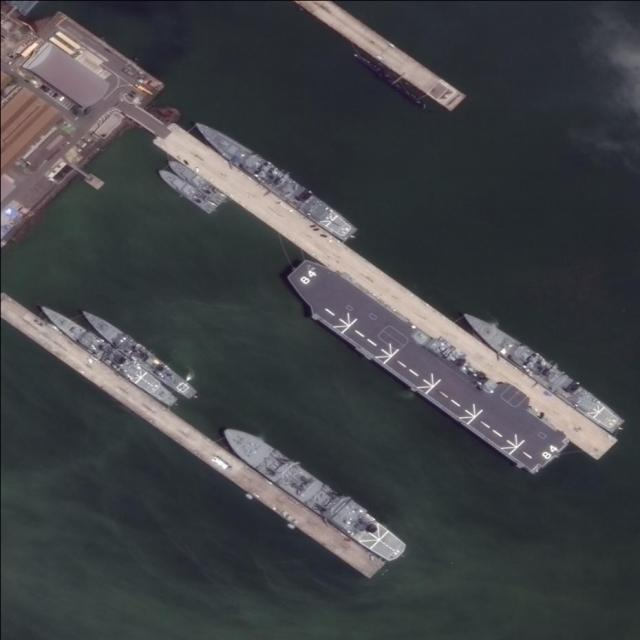Auxiliary Ships: (215, 418, 410, 566)
Destroyer: (278, 255, 567, 478), (188, 112, 360, 246), (456, 304, 627, 436), (34, 299, 178, 409), (76, 306, 203, 402)
Dock: (132, 96, 614, 467)
Other Warship: (153, 164, 220, 216), (164, 156, 228, 206)
Submarine: (349, 45, 431, 113)
